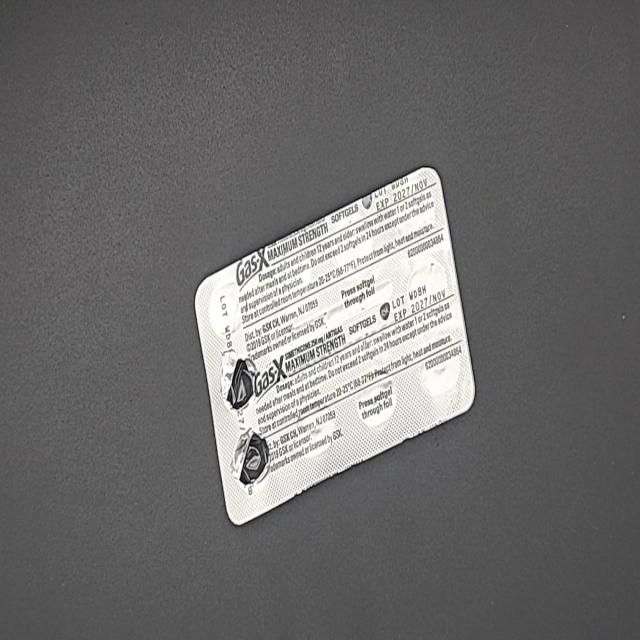defect: (228, 426, 272, 494), (218, 347, 260, 417)
